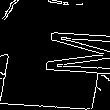M_W: (8, 29, 102, 81)
